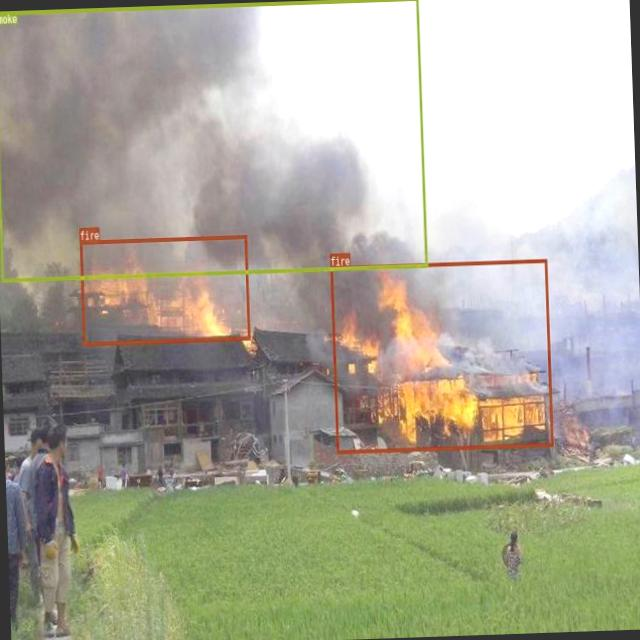fire: (330, 258, 552, 453), (78, 234, 250, 345)
smoke: (0, 0, 426, 281)
